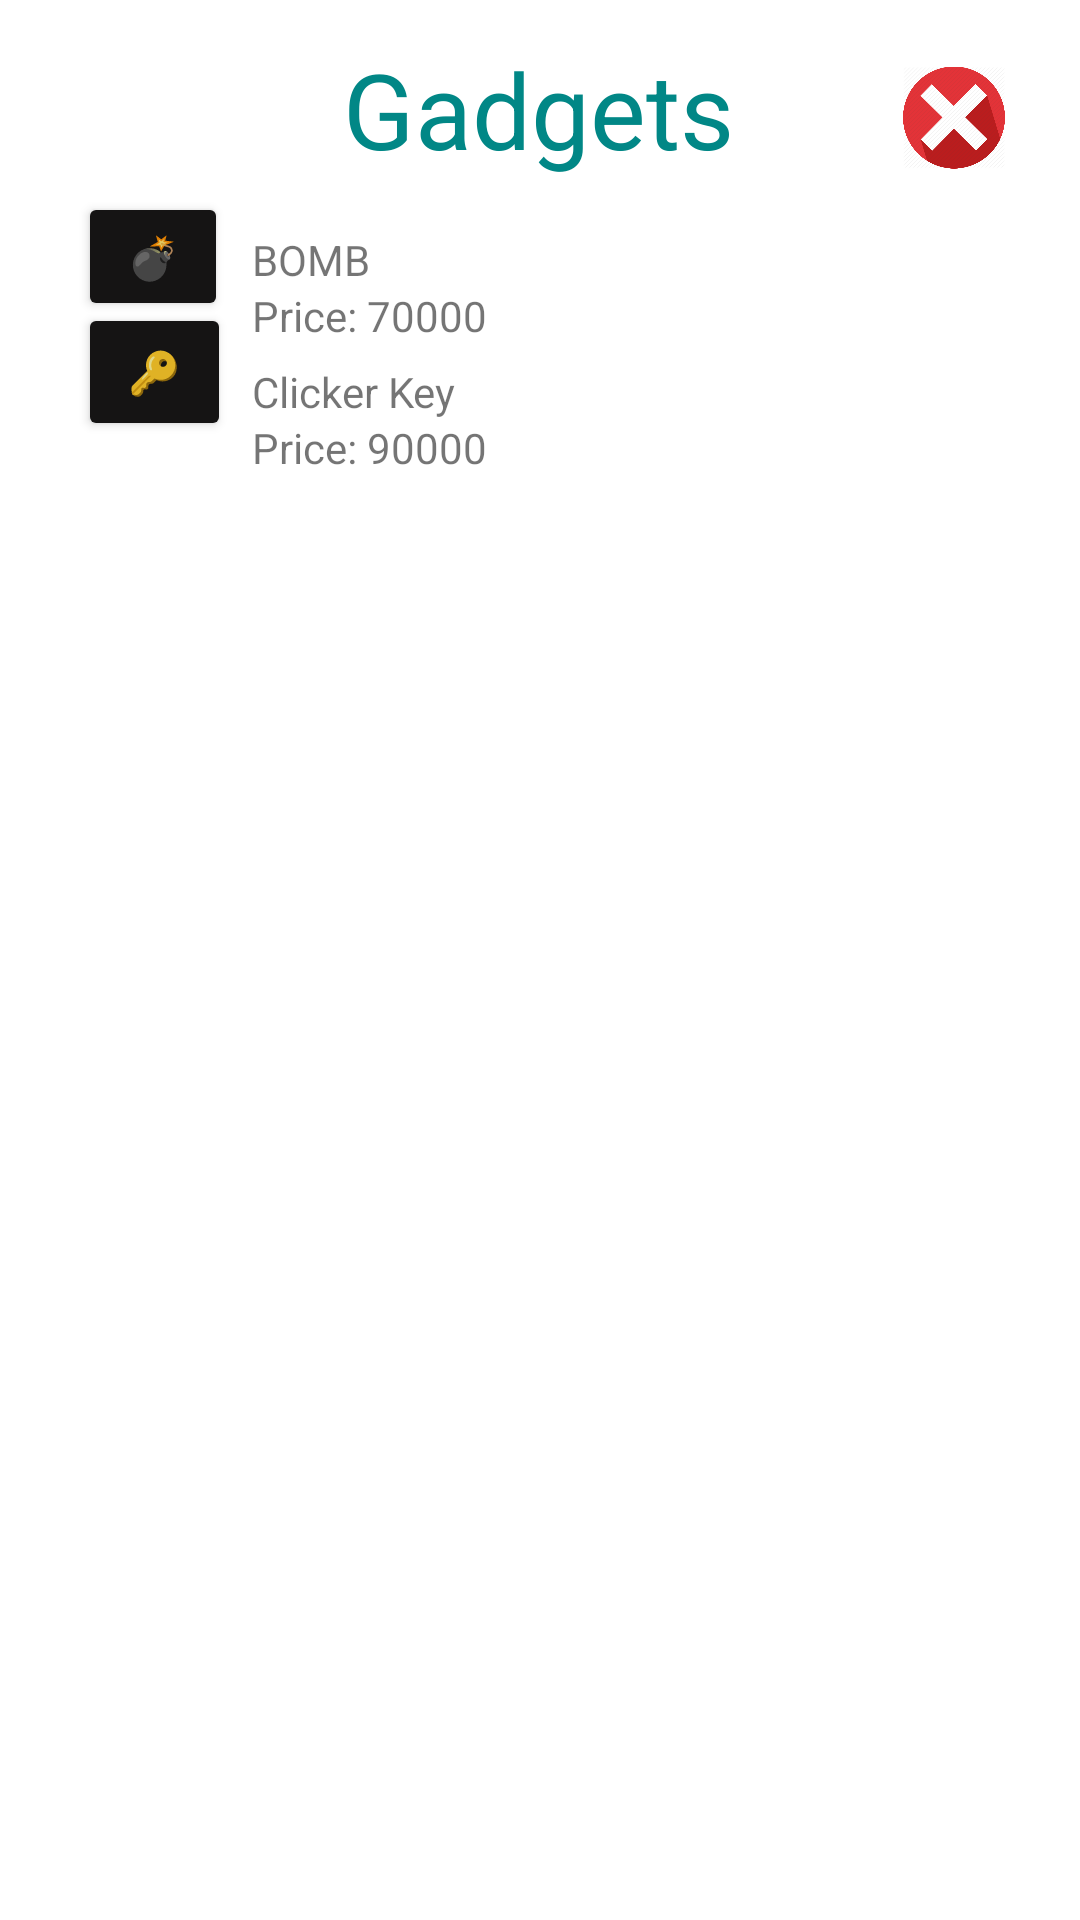

Point at icon controls on the screen. Image size 1080px x 1920px, points as [x,y].
cross: [954,118]
